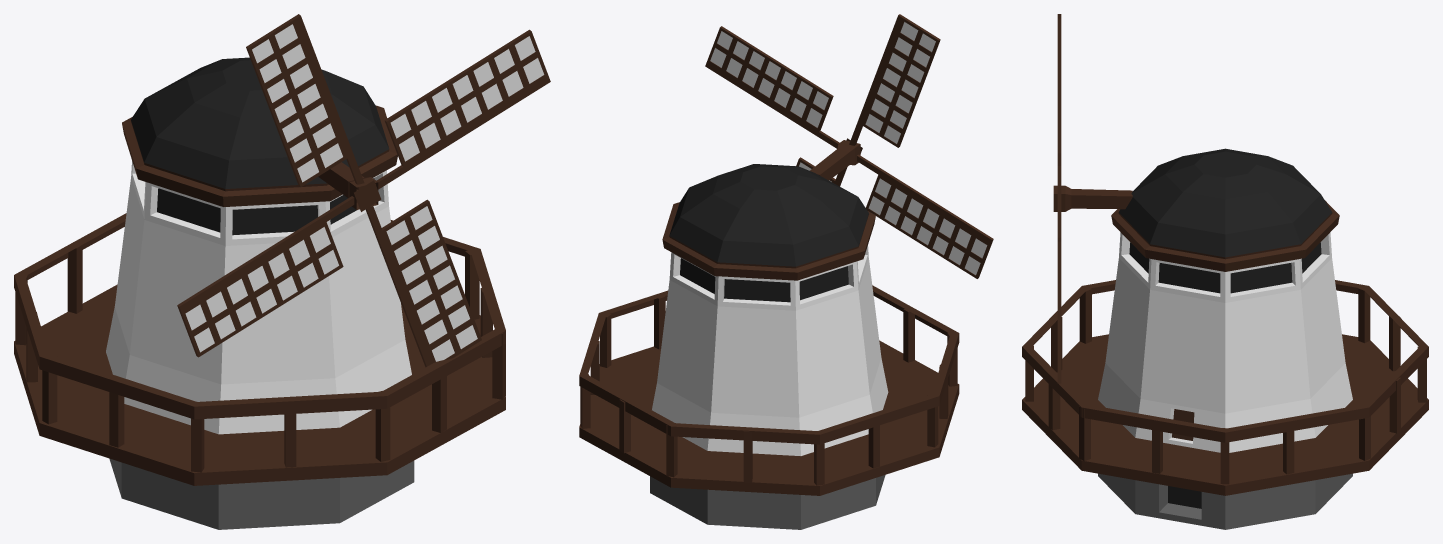
Rendered from windmillFinal.fbx.
The picture shows the model from 3 angles, left to right: view 1: azimuth 30°, elevation 25°; view 2: azimuth 150°, elevation 25°; view 3: azimuth 270°, elevation 25°; orthographic projection. The views are drawn at different scales.
Parts seen in each view (by area): view 1: Cube, Cube.001; view 2: Cube, Cube.001; view 3: Cube, Cube.001.
Part boxes in pixels (box(x1,y1,x2,y2)): Cube: box(14, 57, 505, 529); Cube.001: box(177, 14, 550, 367); Cube: box(579, 140, 959, 529); Cube.001: box(705, 14, 993, 278); Cube: box(1022, 148, 1428, 529); Cube.001: box(1057, 14, 1061, 383).
Bounding box in the file's own units: 1115 × 1309 × 1115.
Materials: 1 (1 with a texture image).
